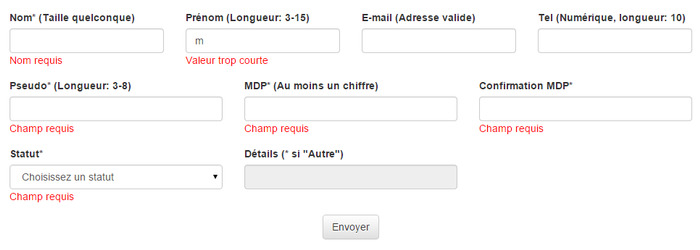_form_: (284, 1, 700, 250), (1, 1, 351, 250)
button: (321, 214, 381, 239)
field: (6, 94, 226, 123), (242, 163, 460, 192), (476, 95, 694, 123), (242, 95, 459, 123), (8, 163, 224, 191), (358, 25, 518, 56), (537, 26, 692, 55), (184, 26, 342, 54), (9, 26, 165, 54)
field_with_label: (240, 148, 463, 193), (7, 148, 226, 193), (240, 80, 462, 124), (474, 80, 695, 124), (4, 81, 227, 124), (355, 13, 520, 57), (534, 12, 694, 57), (7, 12, 166, 56), (183, 14, 344, 56)
